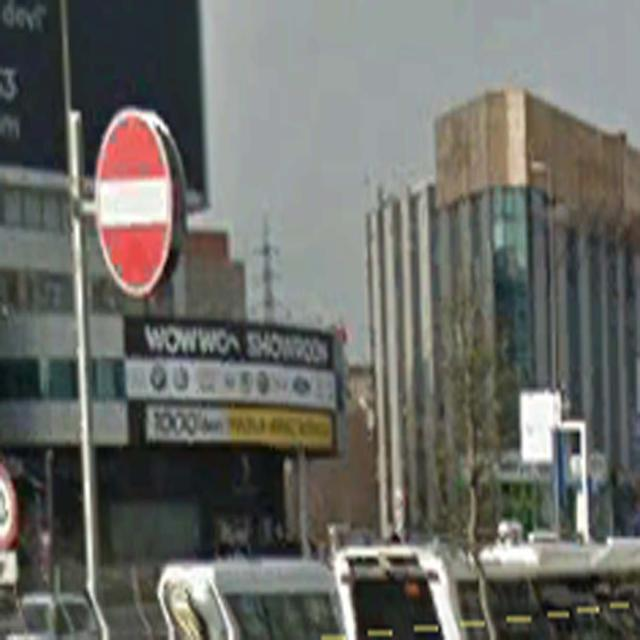girisyok: (94, 109, 170, 296)
